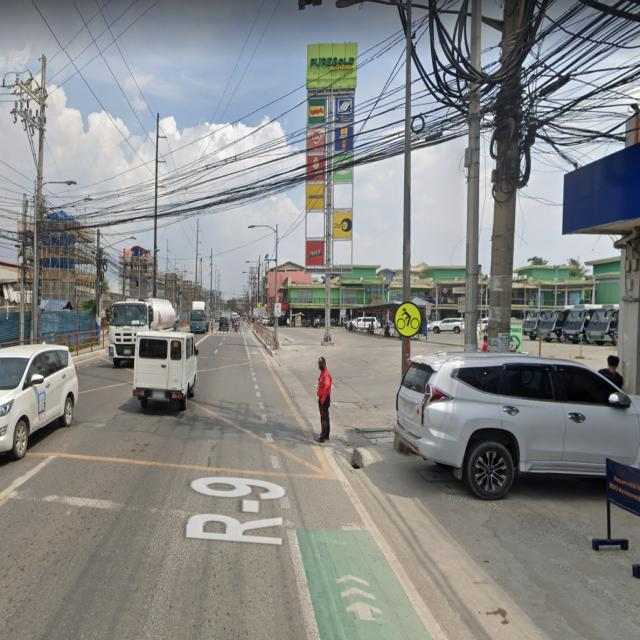bike lane: (391, 299, 427, 342)
